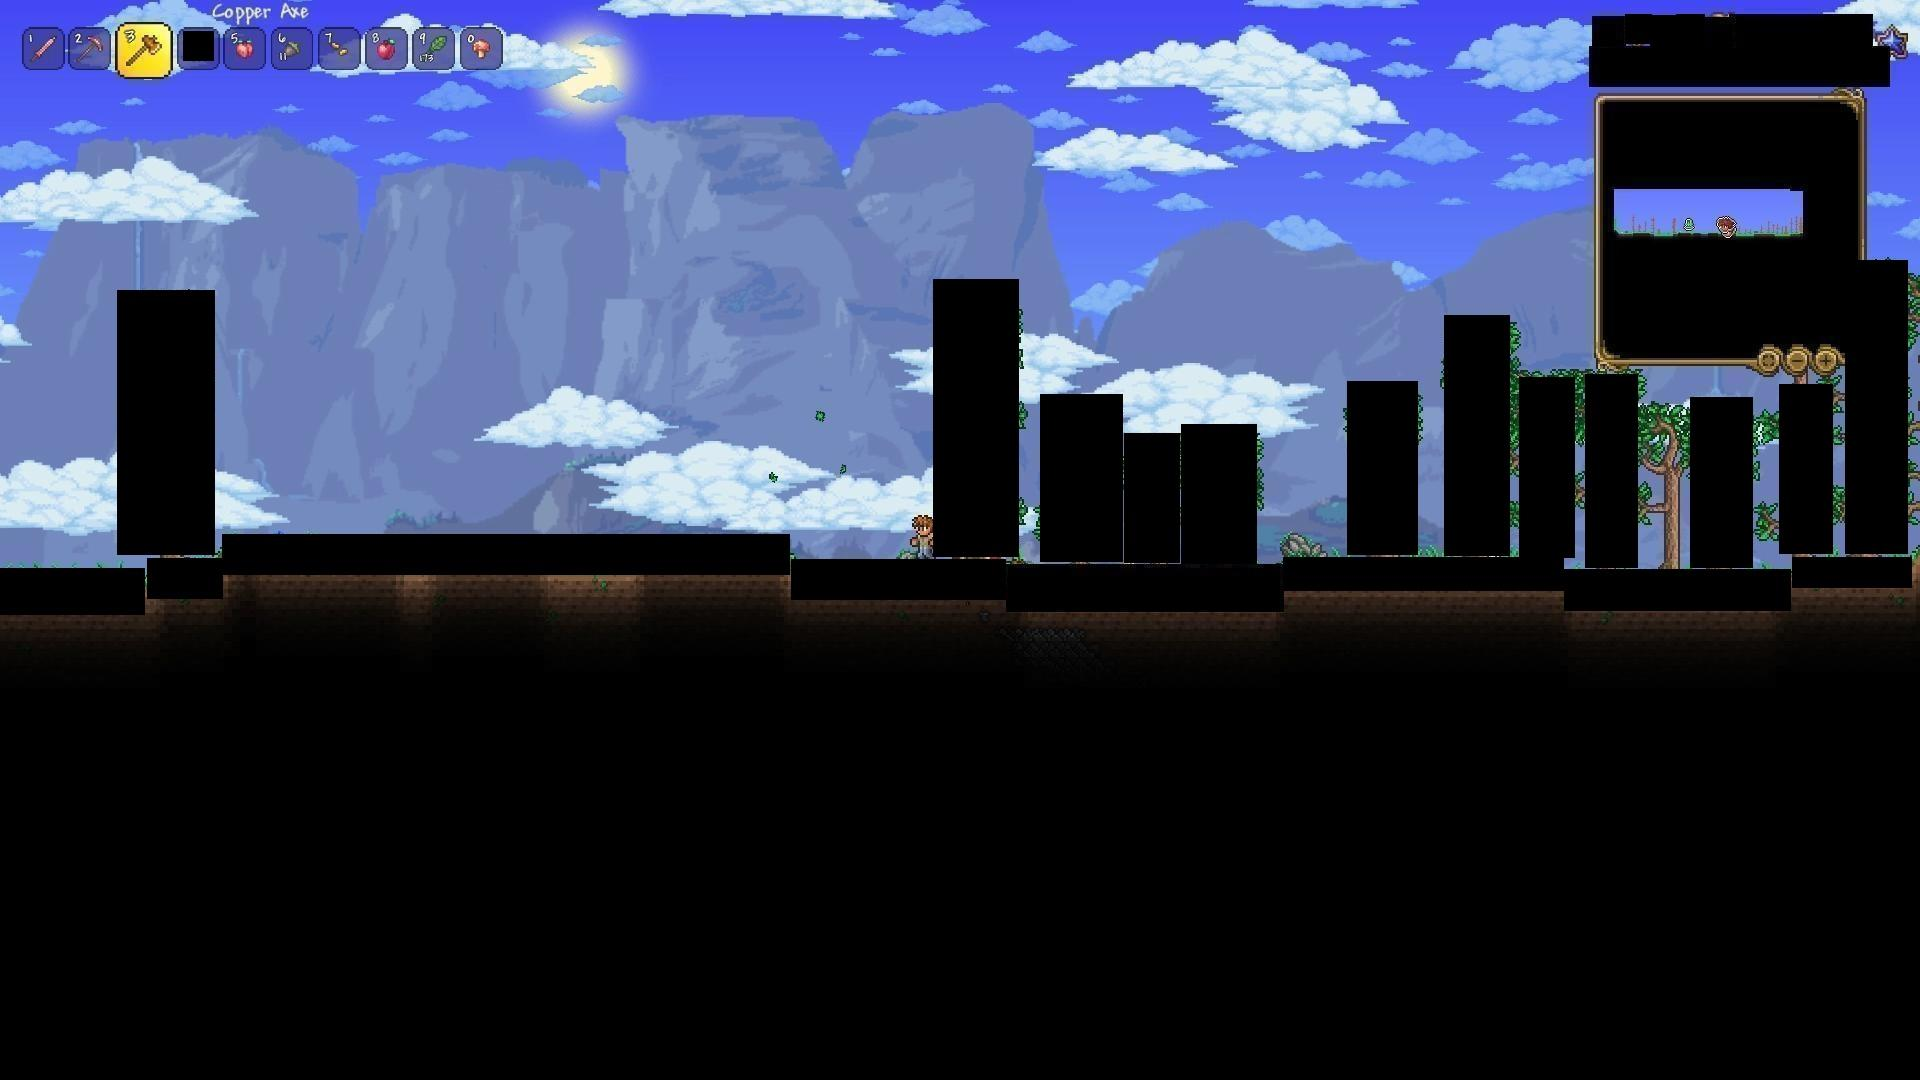tree: (1642, 402, 1695, 566)
